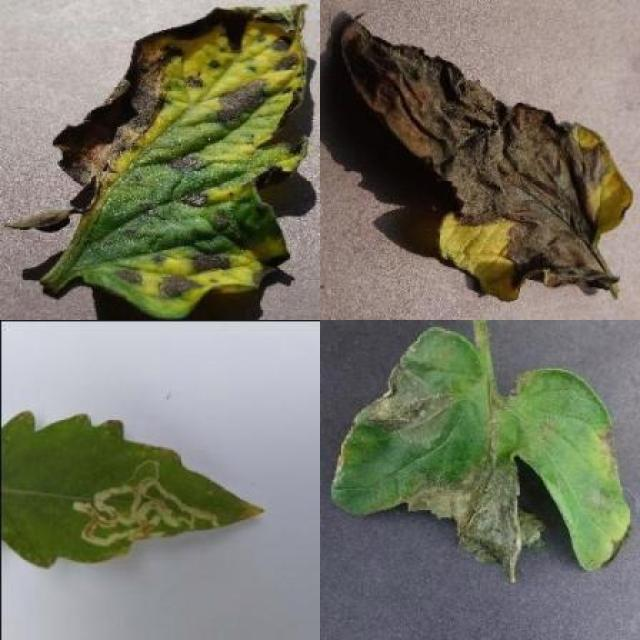Early Blight: (50, 1, 309, 320)
Late Blight: (340, 10, 636, 303), (332, 326, 628, 584)
Leaf Miner: (0, 410, 263, 571)
